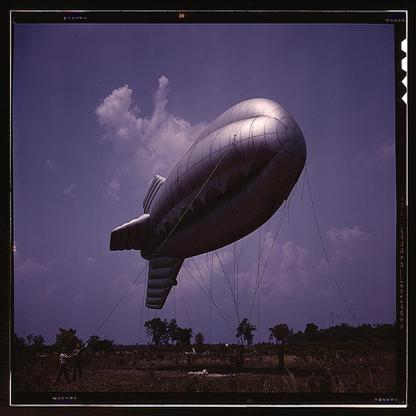Airship: (110, 97, 307, 311)
